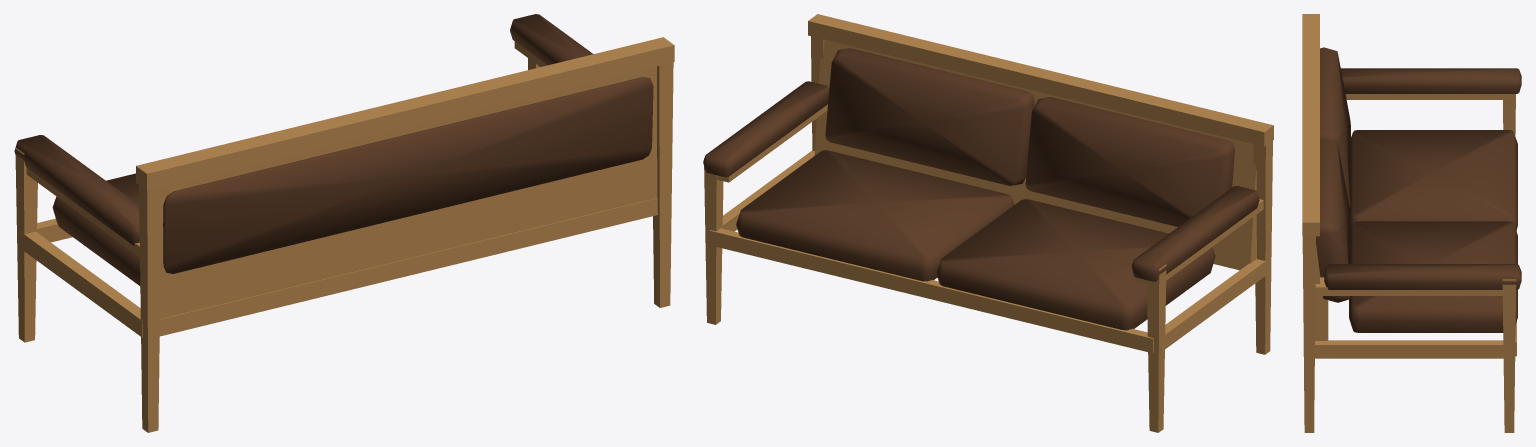
File: parametric-sofa-crew.glb
3 views of the same model, side by side, from view 1: azimuth 30°, elevation 25°; view 2: azimuth 150°, elevation 25°; view 3: azimuth 270°, elevation 25° (orthographic). The views are drawn at different scales.
Visible parts, largest first — view 1: parametric-sofa-crew; view 2: parametric-sofa-crew; view 3: parametric-sofa-crew.
Part boxes in pixels (bbox=[...]): parametric-sofa-crew: bbox=[14, 14, 674, 432]; parametric-sofa-crew: bbox=[703, 14, 1273, 432]; parametric-sofa-crew: bbox=[1302, 14, 1521, 432].
Size of the model in its own units: 1.8 by 0.85 by 0.8.
